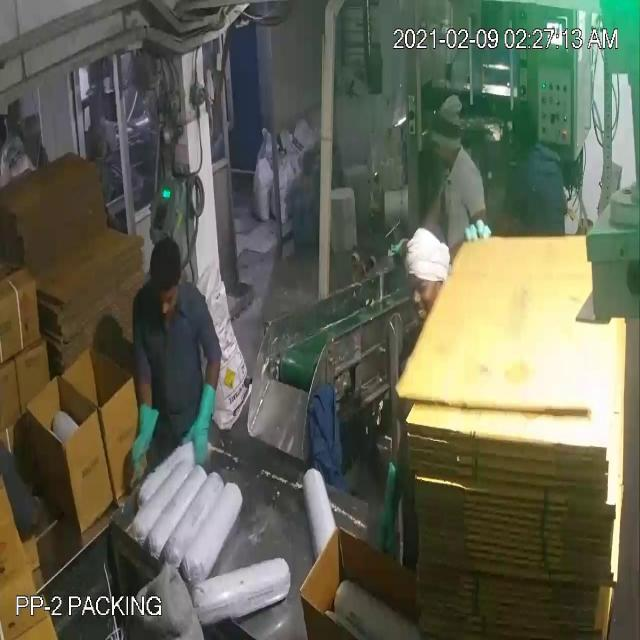Gloves: (38, 92, 389, 507)
